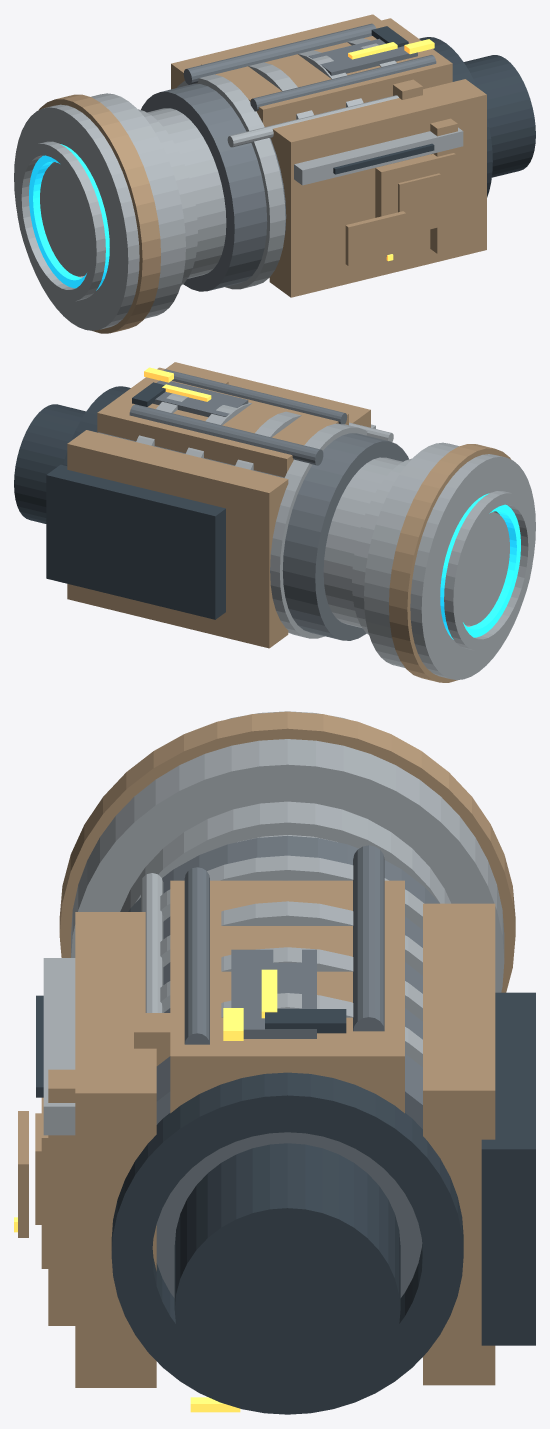
The model's file is engine2.glb.
3 views of the same model, one above another, from view 1: azimuth 30°, elevation 25°; view 2: azimuth 150°, elevation 25°; view 3: azimuth 270°, elevation 25° (orthographic). The views are drawn at different scales.
Visible parts, largest first — view 1: Upper blue armor, Outer exhaust bell, Main engine pressure chamber, Side armor cheek, MK2 outer nozzle reinforcement, MK2 inner nozzle steel lip, Forward mount connector, Nozzle neck, MK2 heat-sink collar -0.58, Deep exhaust cavity, Top service hatch, MK2 upper reinforcement rail (+17 smaller); view 2: Compact ship mounting rail, Lower armor keel, Outer exhaust bell, Main engine pressure chamber, Side armor cheek, MK2 outer nozzle reinforcement, MK2 inner nozzle steel lip, Nozzle neck, Forward mount connector, Deep exhaust cavity, MK2 heat-sink collar -0.58, Fuel conduit (+10 smaller); view 3: Forward mount connector, Forward mounting collar, Outer exhaust bell, Upper blue armor, Side armor cheek, Lower armor keel, Compact ship mounting rail, MK2 outer nozzle reinforcement, Main engine pressure chamber, Nozzle dark throat, Top cooling rib, Fuel conduit (+13 smaller).
Boxes of the visible parts, box(x1,y1,x2,y2) form: Upper blue armor: box(269, 79, 486, 297); Outer exhaust bell: box(14, 93, 185, 330); Main engine pressure chamber: box(141, 84, 286, 291); Side armor cheek: box(201, 18, 452, 126); MK2 outer nozzle reinforcement: box(38, 94, 160, 333); MK2 inner nozzle steel lip: box(15, 141, 105, 301); Forward mount connector: box(464, 55, 535, 177); Nozzle neck: box(147, 108, 226, 278); MK2 heat-sink collar -0.58: box(177, 74, 285, 289); Deep exhaust cavity: box(40, 162, 90, 276); Top service hatch: box(375, 153, 455, 234); MK2 upper reinforcement rail: box(294, 127, 463, 185); Compact ship mounting rail: box(46, 464, 225, 619); Lower armor keel: box(67, 430, 288, 648); Outer exhaust bell: box(364, 442, 535, 679); Main engine pressure chamber: box(98, 432, 408, 640); Side armor cheek: box(97, 367, 348, 477); MK2 outer nozzle reinforcement: box(389, 444, 511, 682); MK2 inner nozzle steel lip: box(444, 491, 534, 650); Nozzle neck: box(323, 457, 402, 628); Forward mount connector: box(14, 404, 85, 523); Deep exhaust cavity: box(459, 512, 509, 625); MK2 heat-sink collar -0.58: box(270, 423, 367, 638); Fuel conduit: box(129, 404, 323, 465); Forward mount connector: box(174, 1143, 400, 1412); Forward mounting collar: box(111, 1072, 463, 1414); Outer exhaust bell: box(71, 711, 504, 992); Upper blue armor: box(75, 912, 156, 1387); Side armor cheek: box(170, 880, 404, 1113); Lower armor keel: box(423, 903, 495, 1385); Compact ship mounting rail: box(481, 992, 535, 1345); MK2 outer nozzle reinforcement: box(59, 711, 515, 992); Main engine pressure chamber: box(128, 835, 439, 1357); Nozzle dark throat: box(120, 801, 450, 911); Top cooling rib: box(48, 1069, 75, 1325); Fuel conduit: box(353, 845, 384, 1031).
Bounding box in the file's own units: 2.18 × 1.01 × 1.16.
